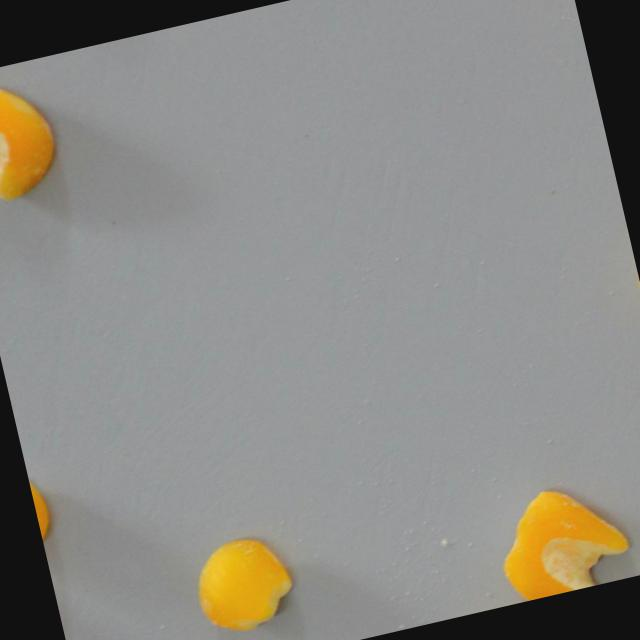no_canjicado: (185, 529, 301, 638), (0, 74, 65, 202)
pelicula: (487, 474, 636, 604)
